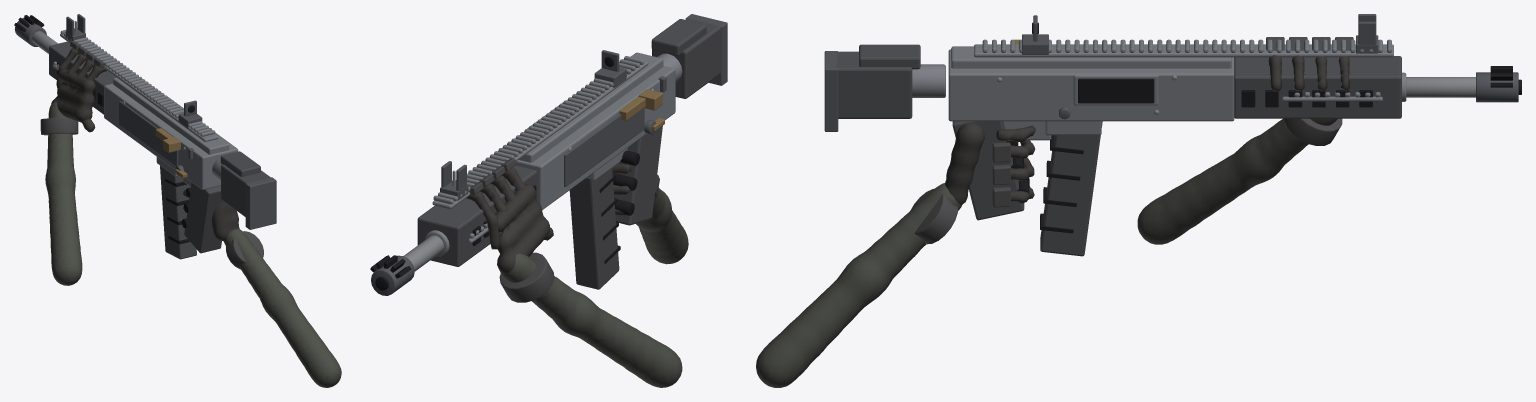
Rendered from viewmodel_vector.glb.
The picture shows the model from 3 angles, left to right: view 1: azimuth 30°, elevation 25°; view 2: azimuth 150°, elevation 25°; view 3: azimuth 270°, elevation 25°; orthographic projection. The views are drawn at different scales.
Visible parts, largest first — view 1: part_vm_cuff, part_vm_body, part_vm_poly, part_vm_body_dark, part_vm_glove2, part_vm_plate, part_vm_bore2, part_vm_accent2, part_vm_steel2; view 2: part_vm_poly, part_vm_body, part_vm_cuff, part_vm_body_dark, part_vm_glove2, part_vm_plate, part_vm_bore2, part_vm_steel2, part_vm_accent2; view 3: part_vm_body, part_vm_poly, part_vm_cuff, part_vm_bore2, part_vm_glove2, part_vm_plate, part_vm_body_dark, part_vm_steel2.
Part boxes in pixels (x1=…): part_vm_cuff: x1=45, y1=101, x2=341, y2=387; part_vm_body: x1=52, y1=28, x2=238, y2=189; part_vm_poly: x1=49, y1=41, x2=270, y2=259; part_vm_body_dark: x1=14, y1=14, x2=276, y2=229; part_vm_glove2: x1=51, y1=48, x2=239, y2=241; part_vm_plate: x1=40, y1=41, x2=263, y2=269; part_vm_bore2: x1=14, y1=15, x2=194, y2=244; part_vm_accent2: x1=155, y1=128, x2=187, y2=178; part_vm_steel2: x1=32, y1=21, x2=185, y2=150; part_vm_poly: x1=417, y1=18, x2=720, y2=289; part_vm_body: x1=425, y1=52, x2=682, y2=256; part_vm_cuff: x1=500, y1=187, x2=688, y2=387; part_vm_body_dark: x1=371, y1=14, x2=727, y2=295; part_vm_glove2: x1=466, y1=163, x2=631, y2=273; part_vm_plate: x1=468, y1=158, x2=659, y2=302; part_vm_bore2: x1=370, y1=56, x2=639, y2=290; part_vm_steel2: x1=403, y1=88, x2=654, y2=271; part_vm_accent2: x1=619, y1=89, x2=664, y2=131; part_vm_body: x1=912, y1=39, x2=1406, y2=140; part_vm_poly: x1=836, y1=44, x2=1401, y2=256; part_vm_cuff: x1=756, y1=118, x2=1337, y2=387; part_vm_bore2: x1=1005, y1=22, x2=1521, y2=233; part_vm_glove2: x1=945, y1=55, x2=1349, y2=204; part_vm_plate: x1=910, y1=37, x2=1353, y2=244; part_vm_body_dark: x1=824, y1=14, x2=1518, y2=131; part_vm_steel2: x1=997, y1=75, x2=1475, y2=114.
Bounding box in the file's own units: 0.2282 × 0.3292 × 0.6833.
